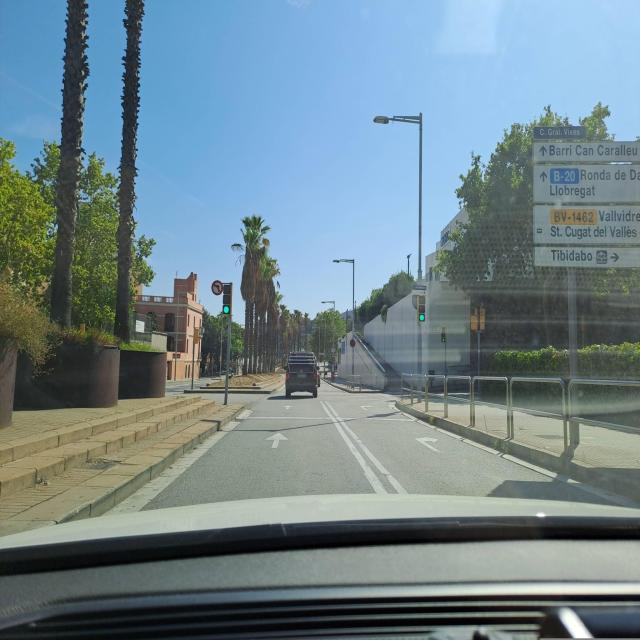car: (285, 352, 318, 398)
